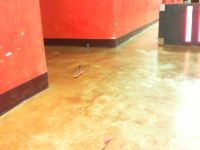switch: (185, 4, 193, 42), (198, 7, 200, 42)
